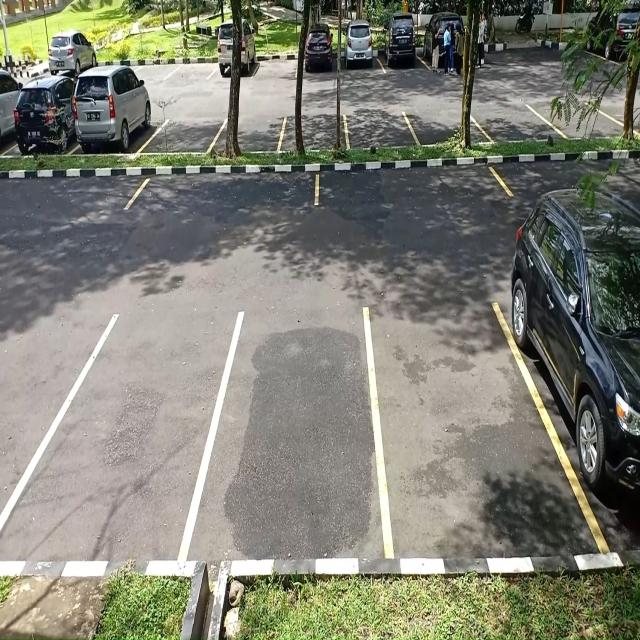empty: (195, 315, 379, 558), (374, 304, 524, 556), (50, 313, 202, 558), (128, 171, 319, 214), (316, 166, 503, 209), (150, 115, 228, 154), (216, 114, 286, 153), (478, 104, 549, 141), (345, 113, 413, 149), (280, 114, 347, 150), (413, 110, 478, 146), (255, 41, 297, 79), (167, 50, 216, 82)
occupied: (513, 223, 640, 550), (71, 85, 151, 155), (12, 81, 74, 157), (215, 32, 256, 80)
